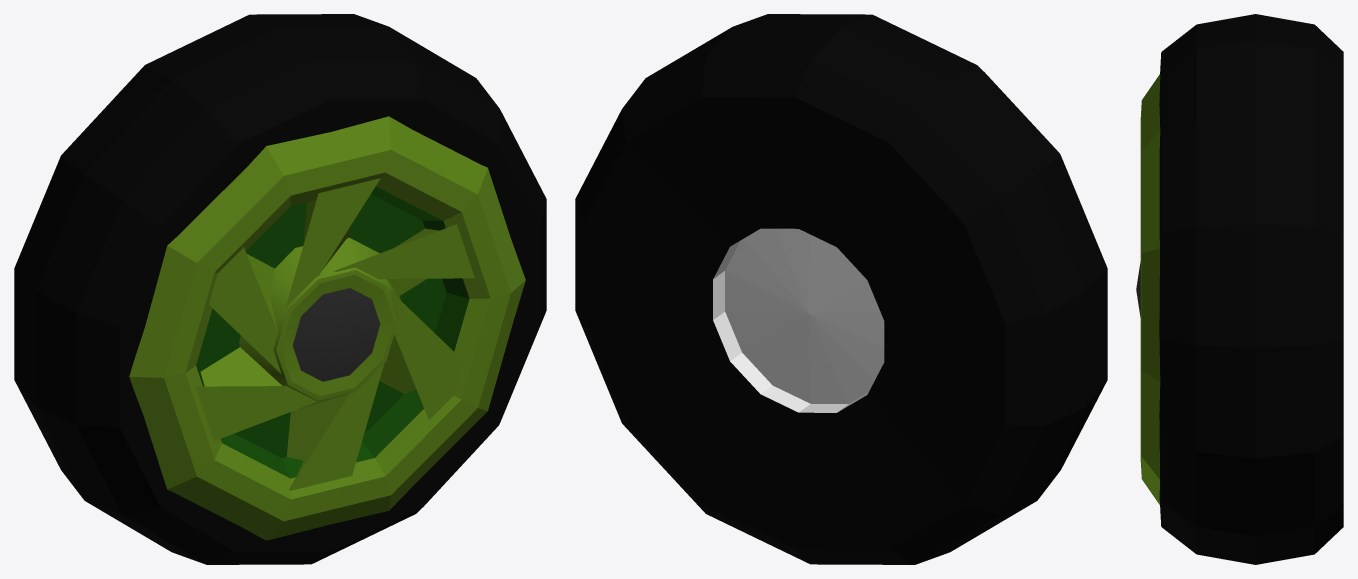
The model's file is wheel13.fbx.
3 renders of one model, left to right at view 1: azimuth 30°, elevation 25°; view 2: azimuth 150°, elevation 25°; view 3: azimuth 270°, elevation 25°, orthographic. The views are drawn at different scales.
Visible parts, largest first — view 1: lanot_wheel11_L; view 2: lanot_wheel11_L; view 3: lanot_wheel11_L.
Part boxes in pixels (bbox=[...]): lanot_wheel11_L: bbox=[14, 14, 546, 564]; lanot_wheel11_L: bbox=[575, 14, 1107, 564]; lanot_wheel11_L: bbox=[1136, 14, 1343, 564].
Size of the model in its own units: 152 by 156 by 58.76.
